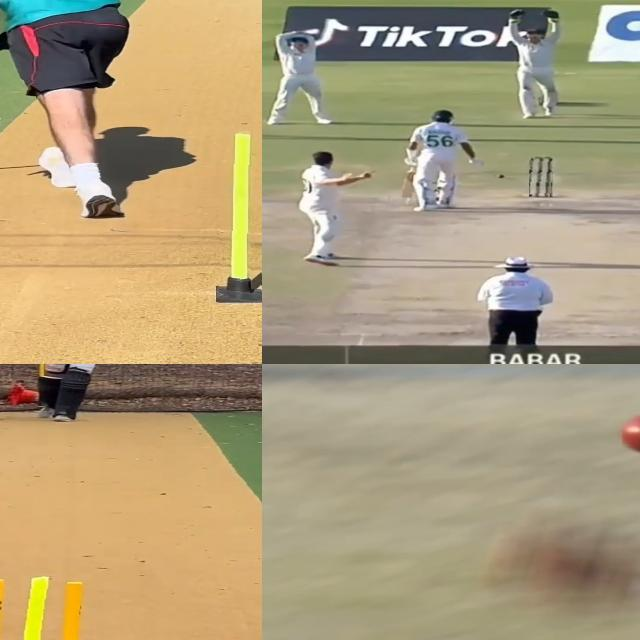Cricket ball: (622, 409, 640, 457)
Stumps: (216, 127, 262, 302), (0, 572, 99, 640), (529, 156, 554, 198)
